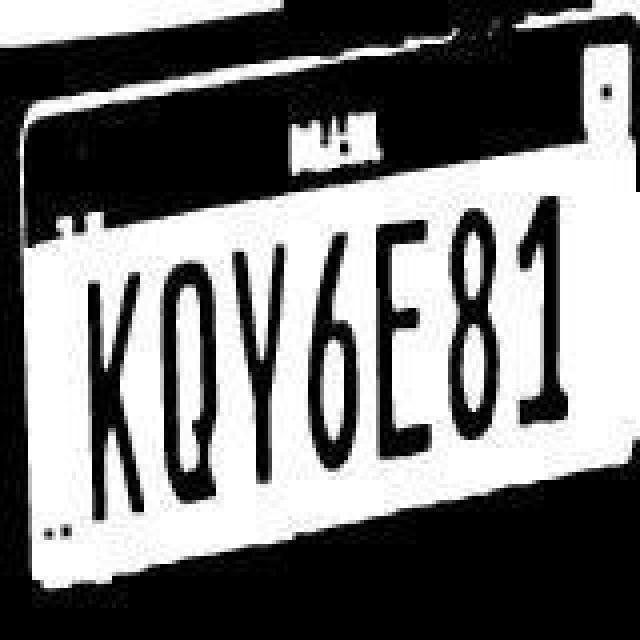1: (514, 188, 574, 436)
6: (306, 220, 366, 484)
8: (444, 200, 500, 448)
E: (370, 216, 438, 472)
K: (86, 272, 146, 528)
Q: (154, 252, 222, 524)
Y: (228, 240, 292, 496)
